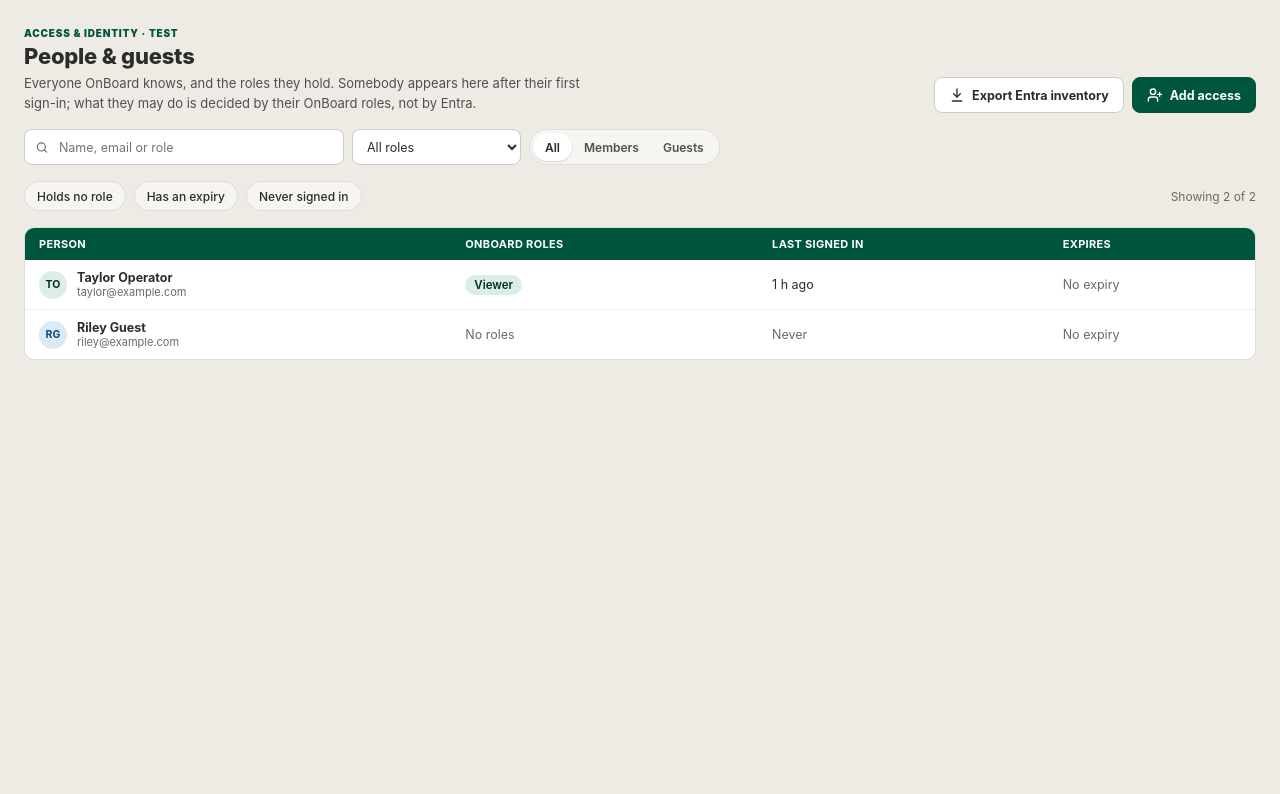
Test case: People & guests › shows the roles held, the generated summary and guest details, and loads sign-ins only when asked
The image size is (1280, 794).
Expected: the text "Viewer" is shown, [465,275,522,295]
Click the button "Taylor Operator".
click(125, 278)  # box [77,270,172,285]
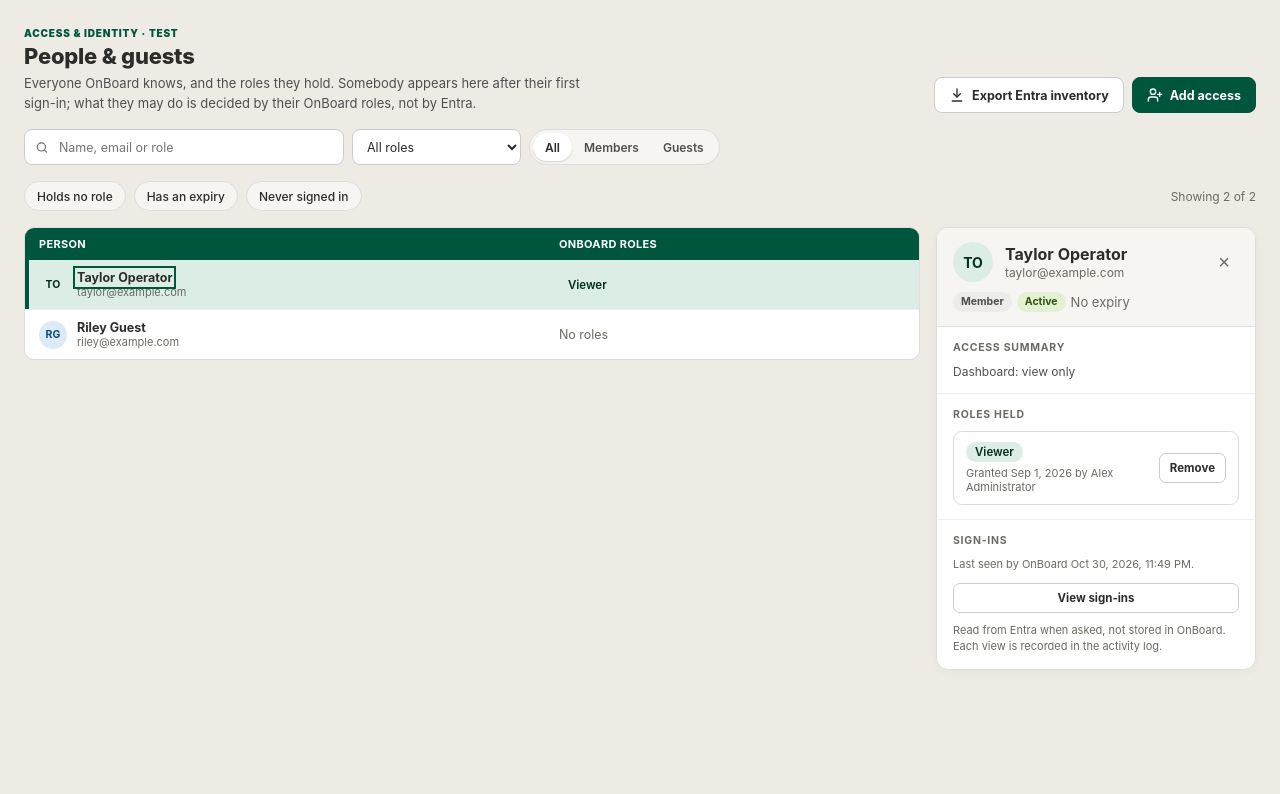
Expected: the list item "Dashboard: view only" is shown, [953,364,1075,379]
Expected: the text "Granted Sep 1, 2026 by Alex Administrator" is shown, [966,466,1113,494]
Click the button "View sign-ins".
click(1096, 598)  # box [953,583,1239,613]
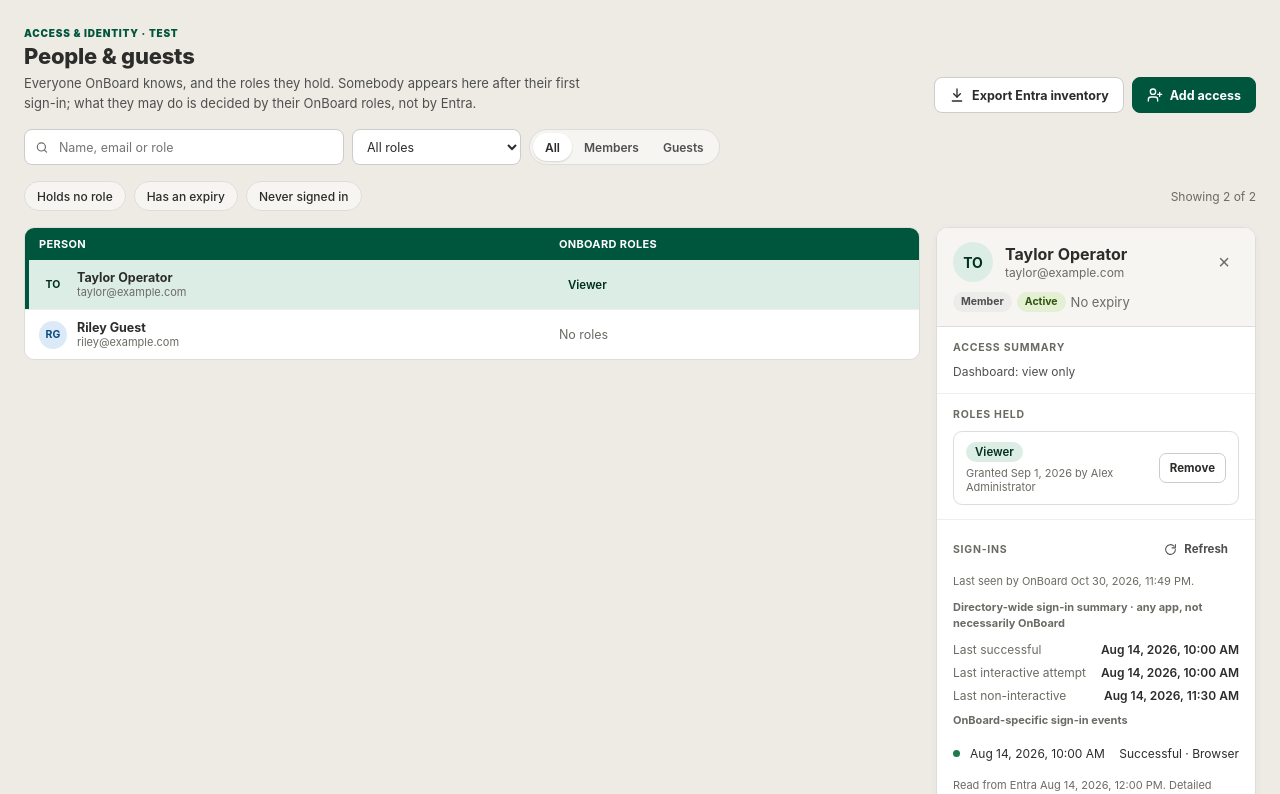
Expected: the text "Directory-wide sign-in summary" is shown, [953,600,1128,614]
Expected: the text "Successful · Browser" is shown, [1119,746,1239,761]
